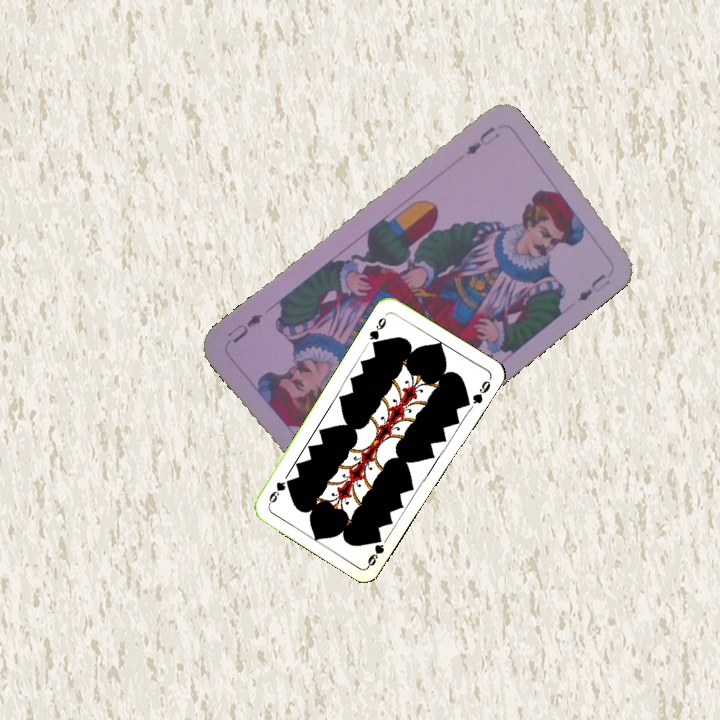EU: (461, 122, 502, 158)
G9: (365, 310, 390, 349), (363, 540, 387, 569)
